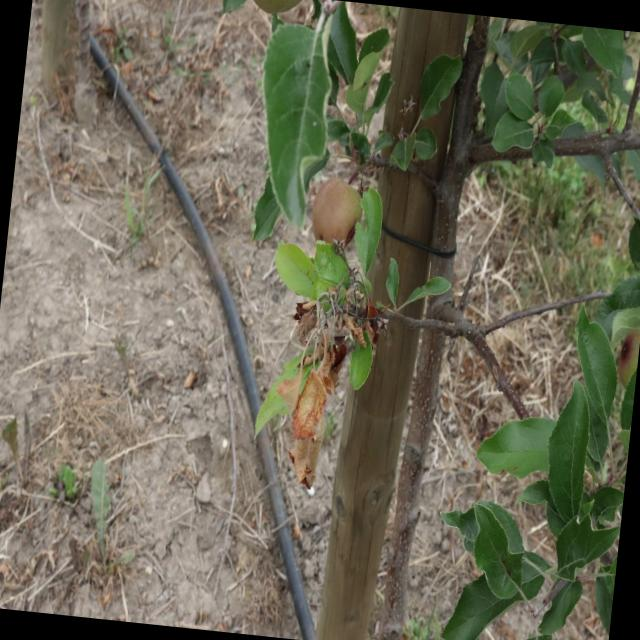-FireBlight-: (266, 293, 340, 495), (342, 286, 388, 349)
